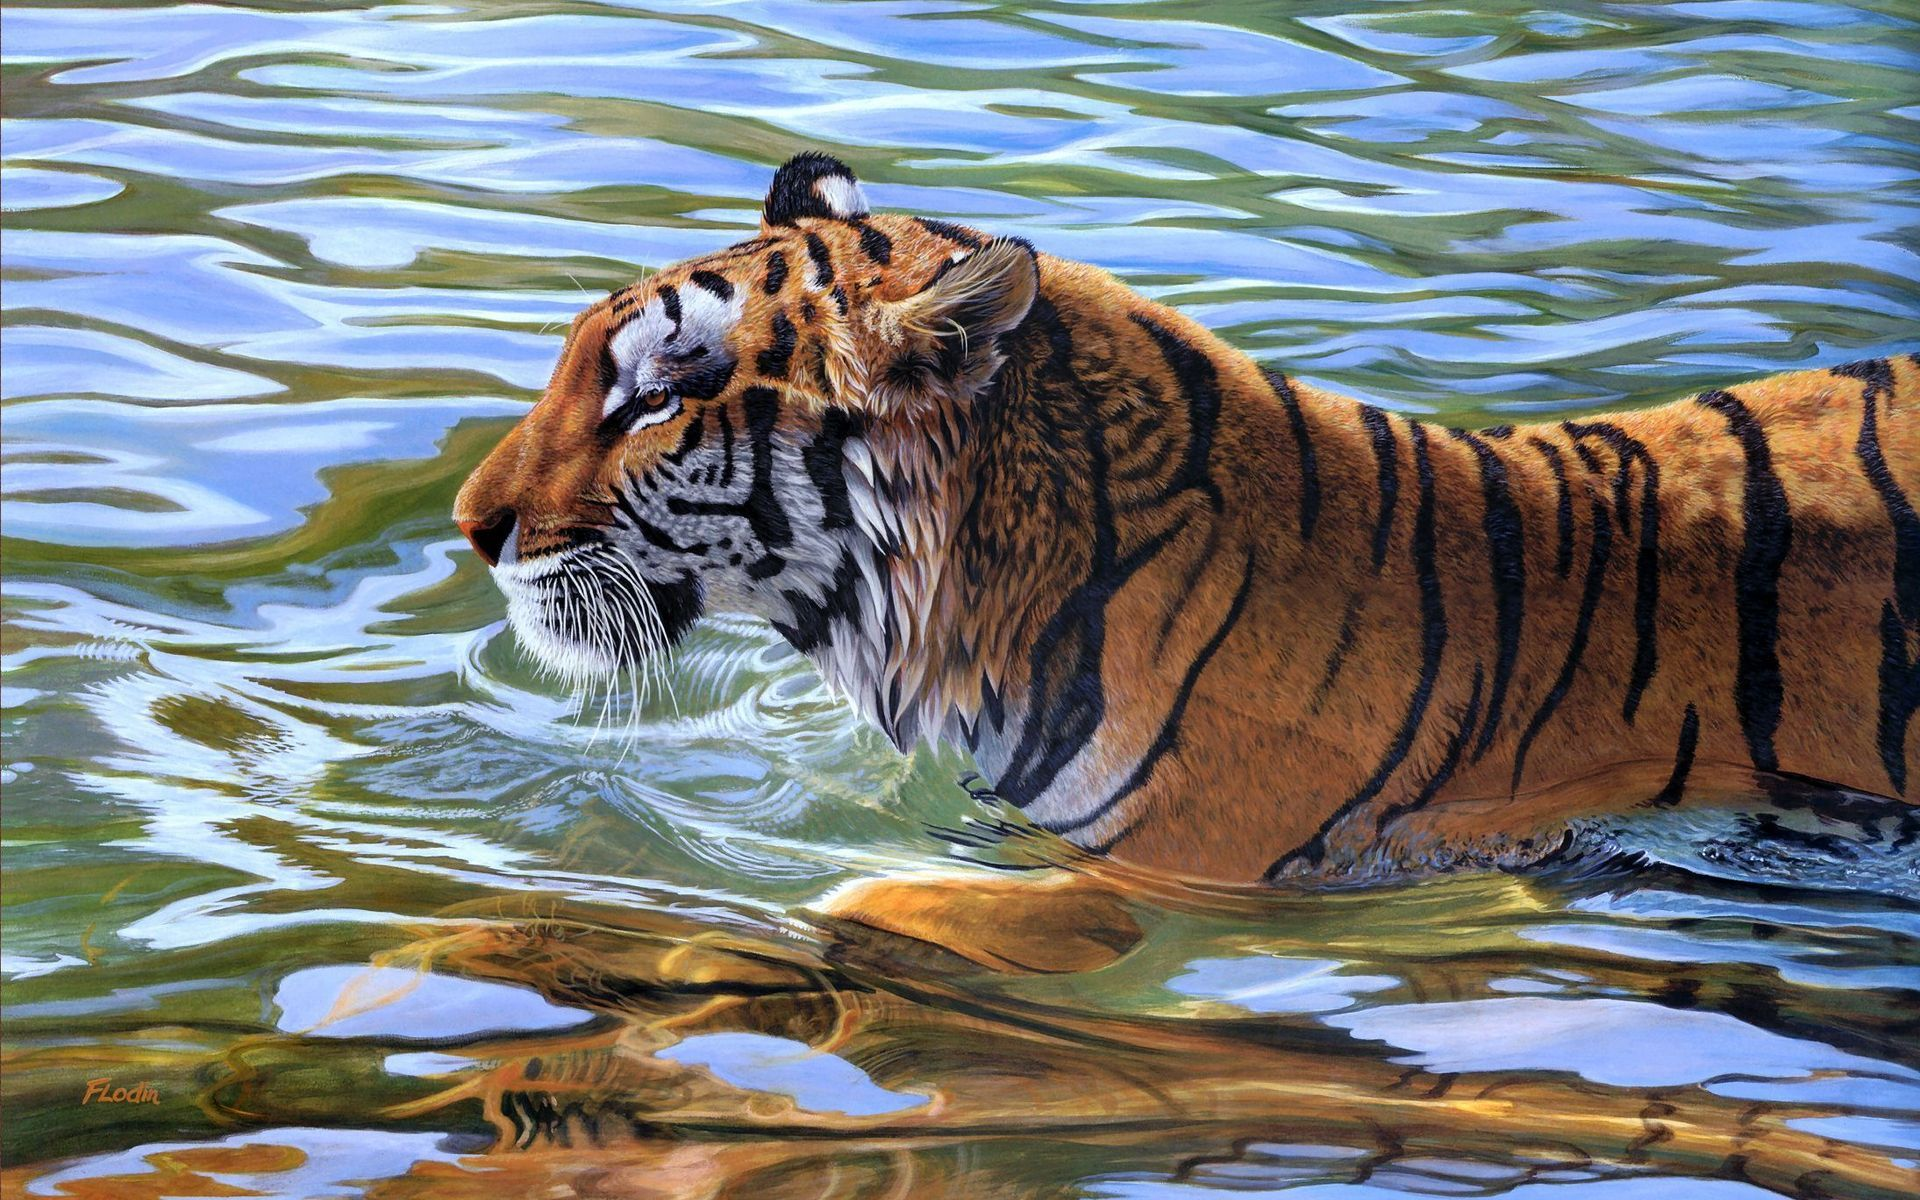Tigrew: (383, 28, 1879, 998)
